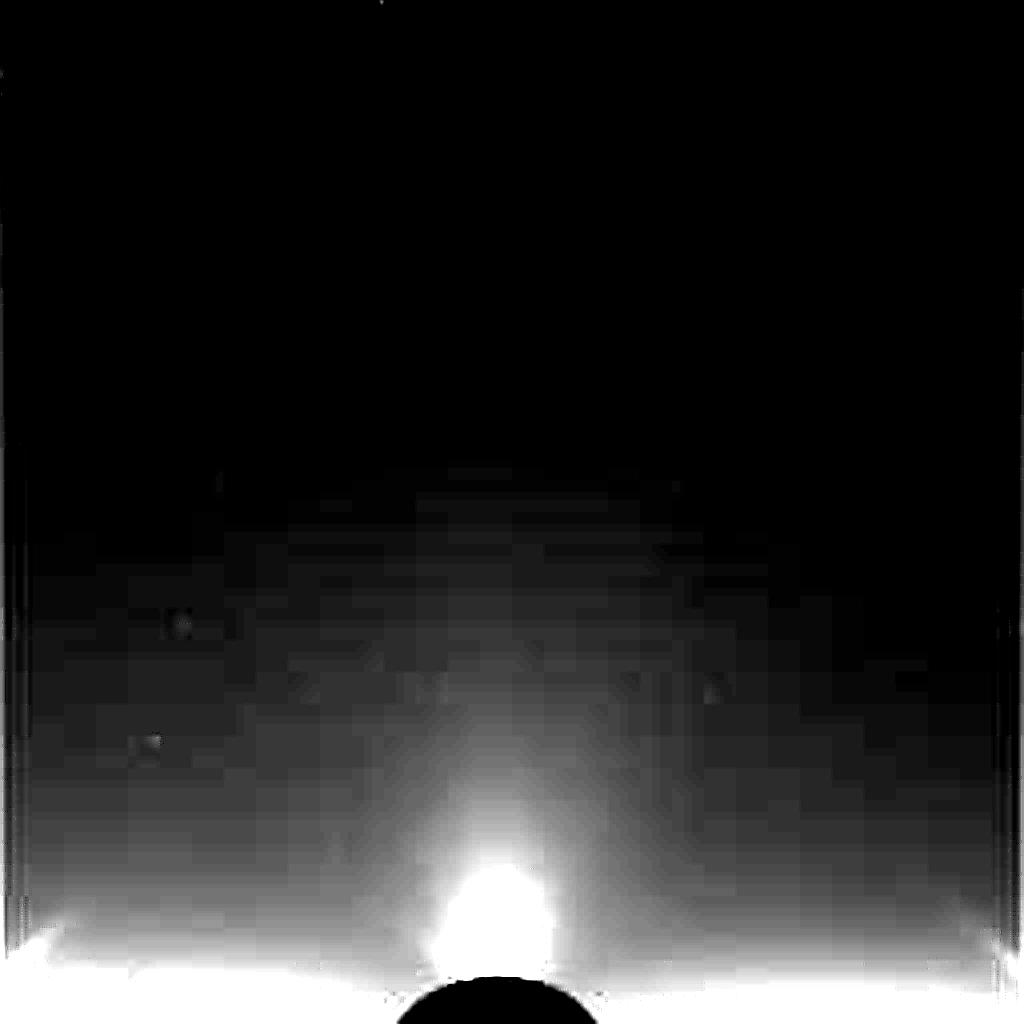plumes: (424, 854, 560, 982)
